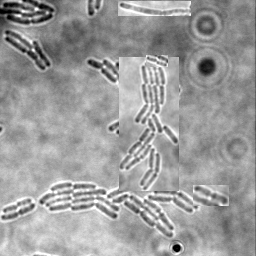Dividing: (118, 1, 191, 16), (193, 185, 229, 206), (1, 204, 37, 222), (3, 199, 33, 215), (146, 55, 168, 67)
Microcolony: (40, 167, 199, 238), (119, 57, 179, 191), (5, 30, 52, 72), (1, 1, 56, 26)
